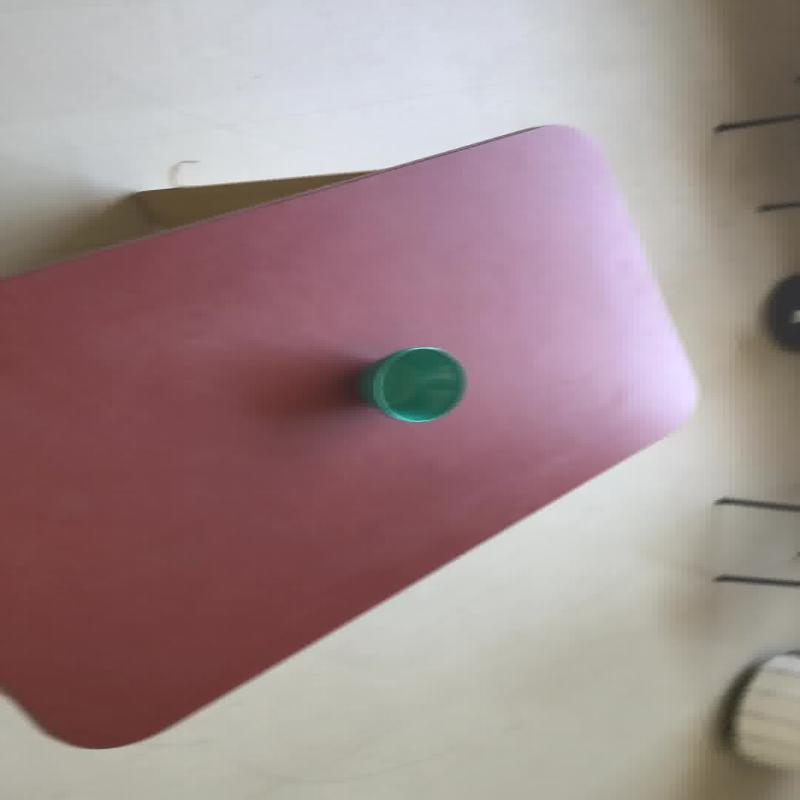bowl: (1, 122, 700, 748), (364, 345, 466, 423)
